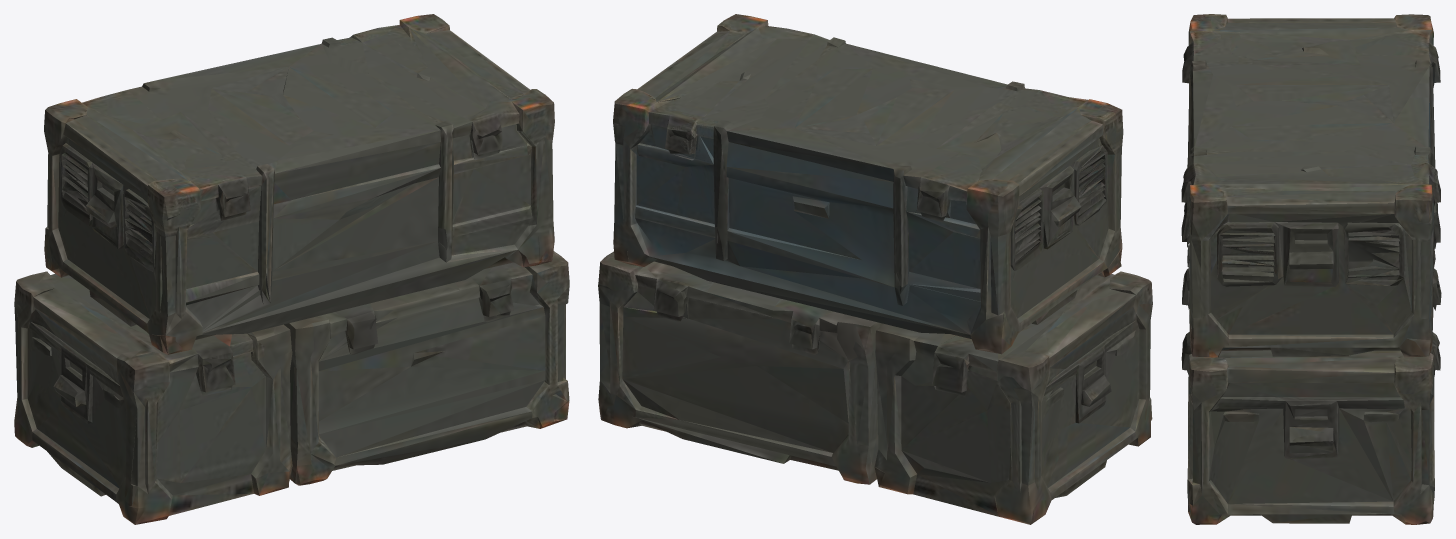
File: lab_caisses.glb
3 views of the same model, side by side, from view 1: azimuth 30°, elevation 25°; view 2: azimuth 150°, elevation 25°; view 3: azimuth 270°, elevation 25° (orthographic).
Size of the model in its own units: 1.9 by 1.3 by 0.9556.
Materials: 1 (1 with a texture image).
